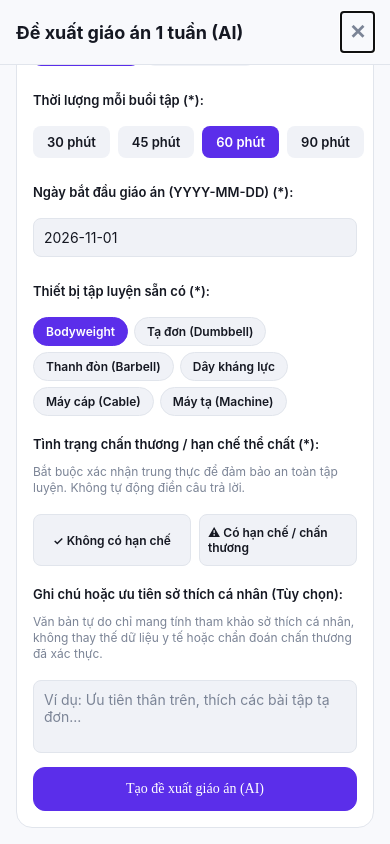
Test: AiWorkoutProposalModal › displays backend field errors and readiness guidance banner on validation failure
(page scrolled)
Click the button with test id "generate-ai-proposal-button". click: point(195, 789)
box: [33, 767, 357, 811]
(page scrolled)
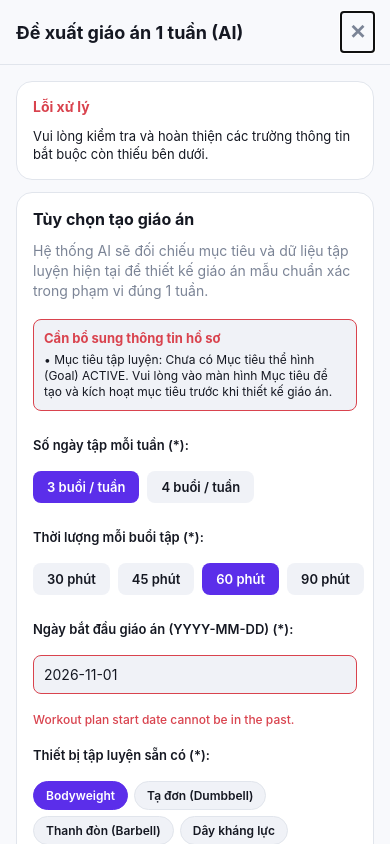
expect the element with test id "readiness-guidance-card" is shown: met, box [33, 319, 357, 411]
expect the element with test id "ai-proposal-error-banner" is shown: met, box [16, 81, 374, 180]
